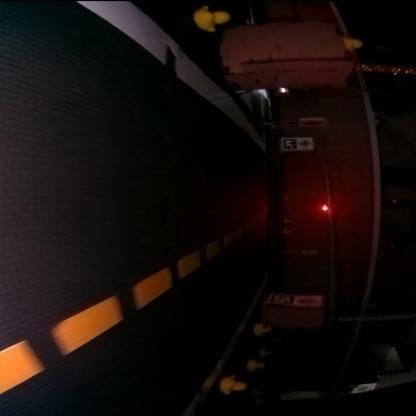Duckie: (198, 7, 232, 30), (223, 378, 247, 394), (343, 36, 363, 52), (254, 324, 272, 334), (249, 360, 264, 372)
Intersection sign: (300, 137, 314, 148)
QR code: (271, 292, 295, 304), (282, 137, 297, 149)
Traffic light: (321, 204, 329, 210)
